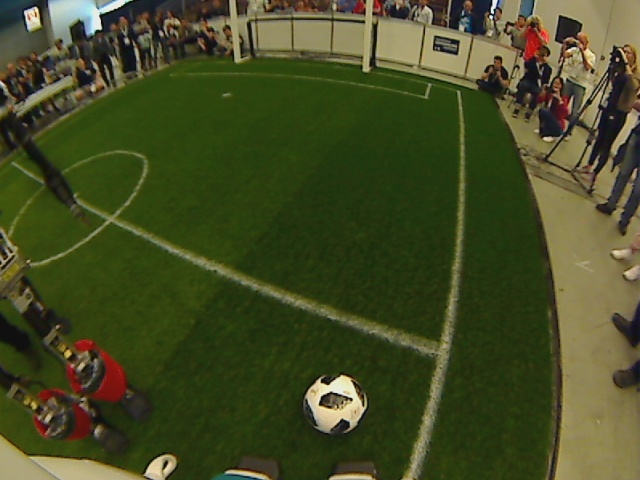ball: (300, 371, 368, 439)
